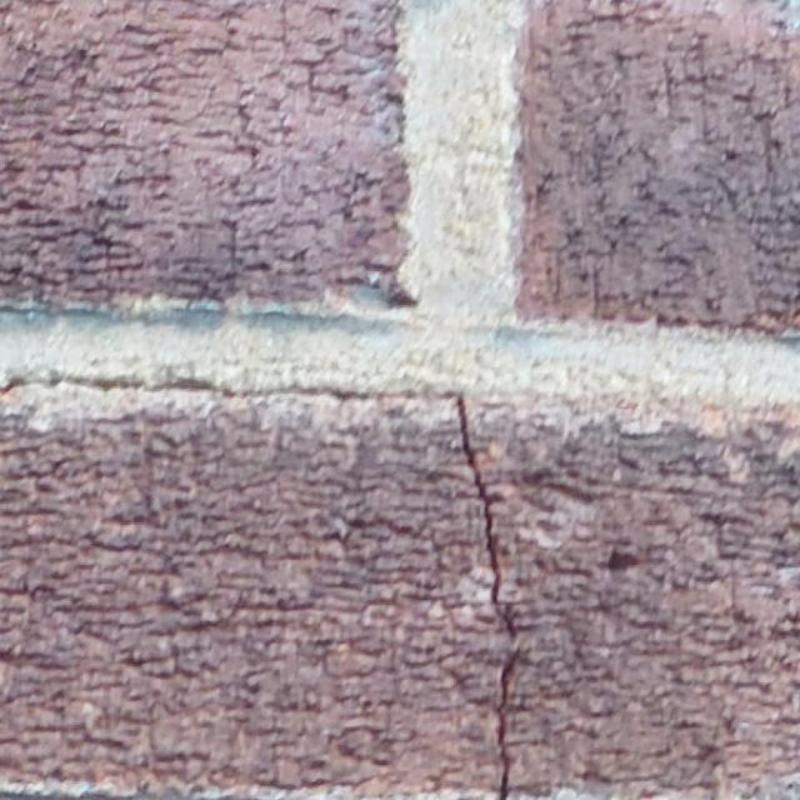pothole: (456, 395, 520, 799), (0, 376, 458, 403)
